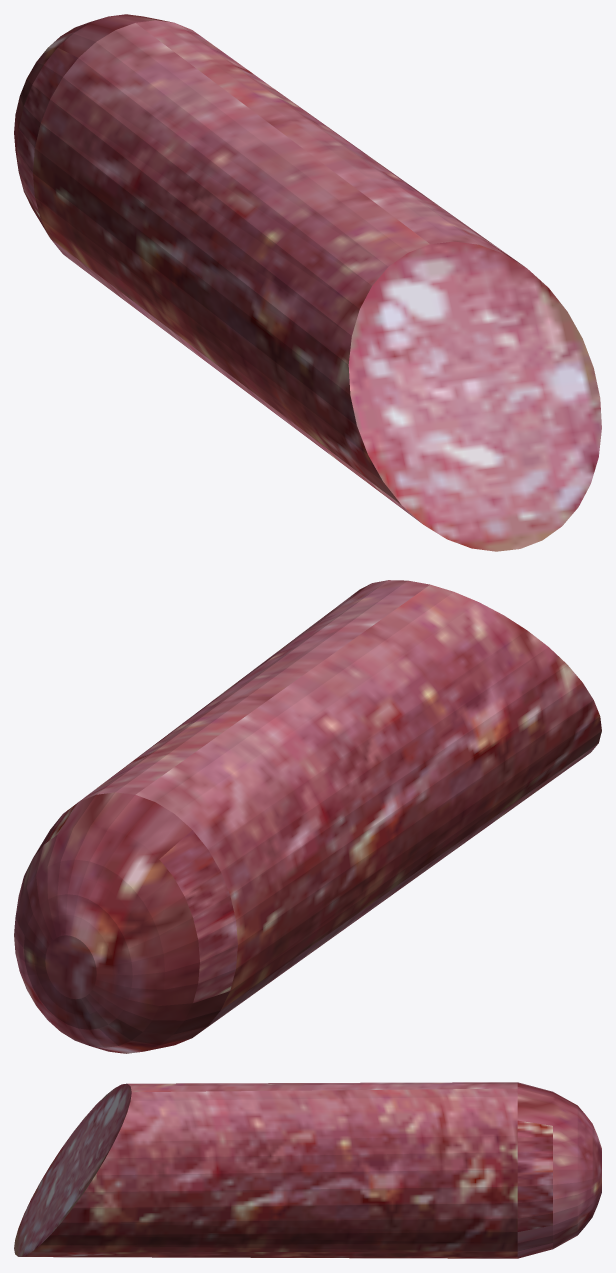
Rendered from sausage.obj.
3 views of the same model, one above another, from view 1: azimuth 30°, elevation 25°; view 2: azimuth 150°, elevation 25°; view 3: azimuth 270°, elevation 25° (orthographic). The views are drawn at different scales.
Visible parts, largest first — view 1: Cylinder_Cylinder.001; view 2: Cylinder_Cylinder.001; view 3: Cylinder_Cylinder.001.
Part boxes in pixels (x1,y1,x2,y2): Cylinder_Cylinder.001: (14,14,601,551); Cylinder_Cylinder.001: (14,580,601,1053); Cylinder_Cylinder.001: (14,1082,601,1258).
Bounding box in the file's own units: 0.9898 × 1 × 3.25.
